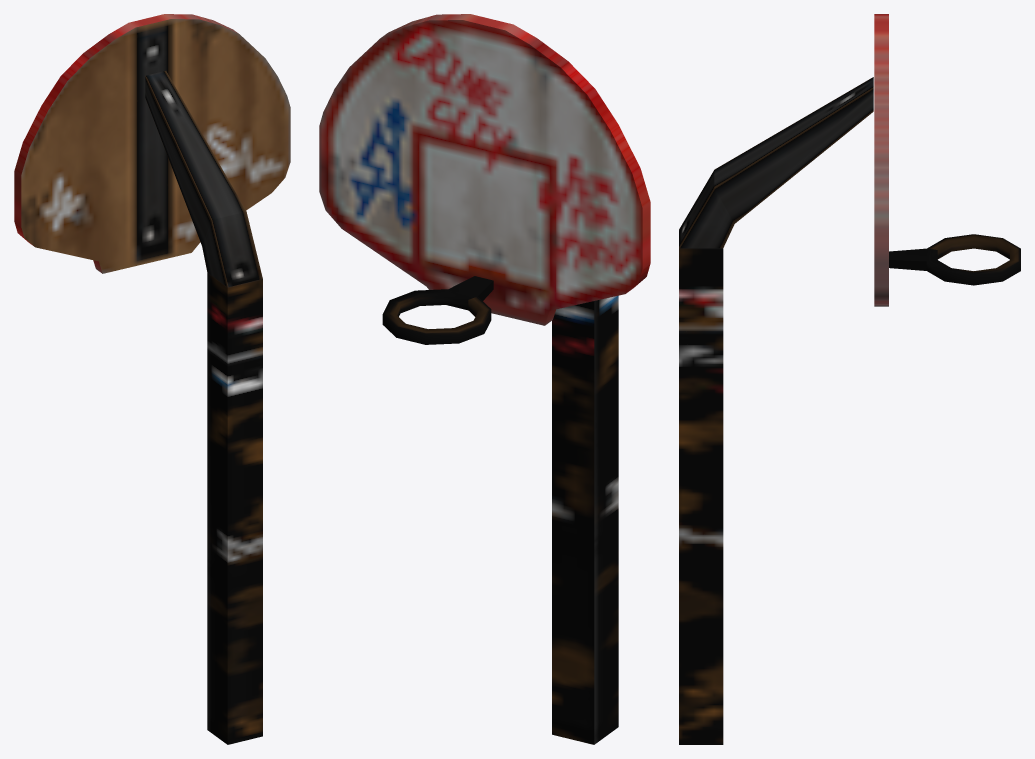
3 views of the same model, side by side, from view 1: azimuth 30°, elevation 25°; view 2: azimuth 150°, elevation 25°; view 3: azimuth 270°, elevation 25° (orthographic). The views are drawn at different scales.
Visible parts, largest first — view 1: LM_Basketball10_Basketball_0.001; view 2: LM_Basketball10_Basketball_0.001; view 3: LM_Basketball10_Basketball_0.001.
Boxes of the visible parts, left/top/right/bottom form: LM_Basketball10_Basketball_0.001: left=14, top=14, right=290, bottom=744; LM_Basketball10_Basketball_0.001: left=319, top=14, right=650, bottom=744; LM_Basketball10_Basketball_0.001: left=679, top=14, right=1020, bottom=744.
Size of the model in its own units: 1.12 by 2.59 by 1.13.
1 material, 1 textured.
